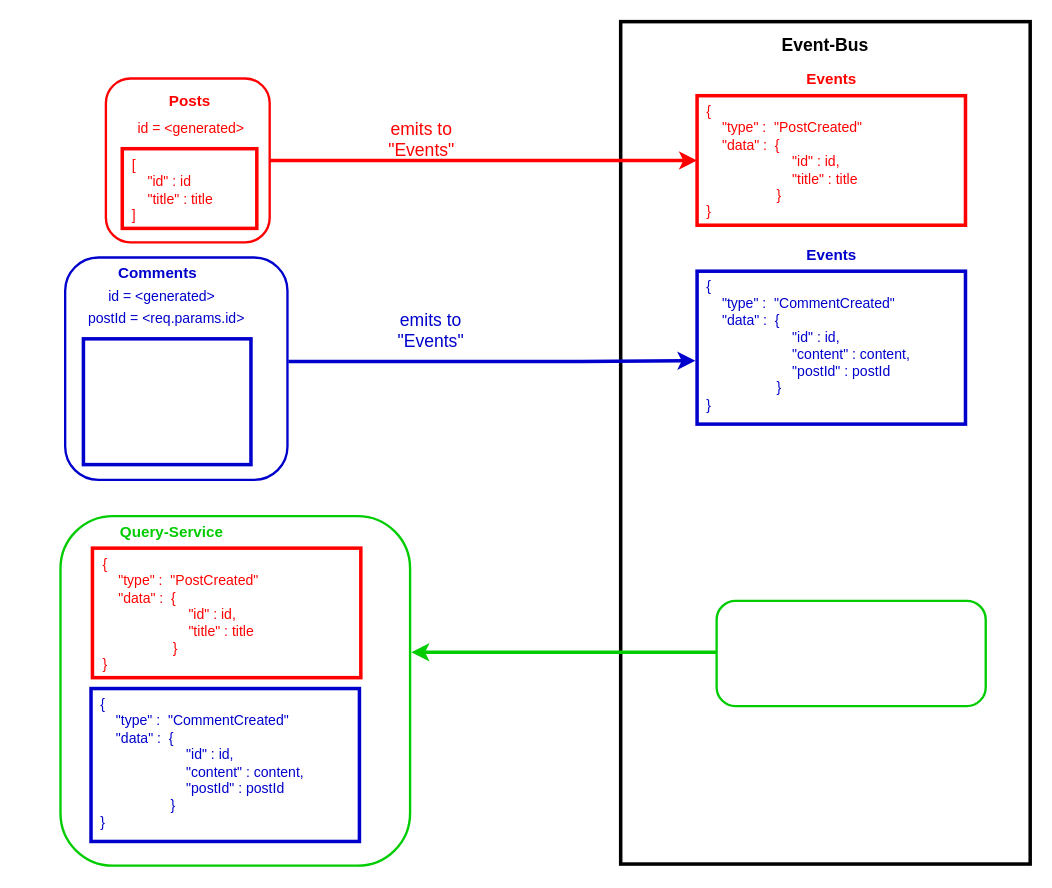
Image size: 1052x888. Some labels were removed from this diagram. The shapes that lost their labels are listed below. From the top down, each one's box as (x1, y1, x2, y2) in pixels, then its label:
(81, 336, 252, 466): [ "postId" : postId, [ "id" : id, "content" : content ] ]
(715, 599, 986, 707): emitting "Events" to "Query-Service"
